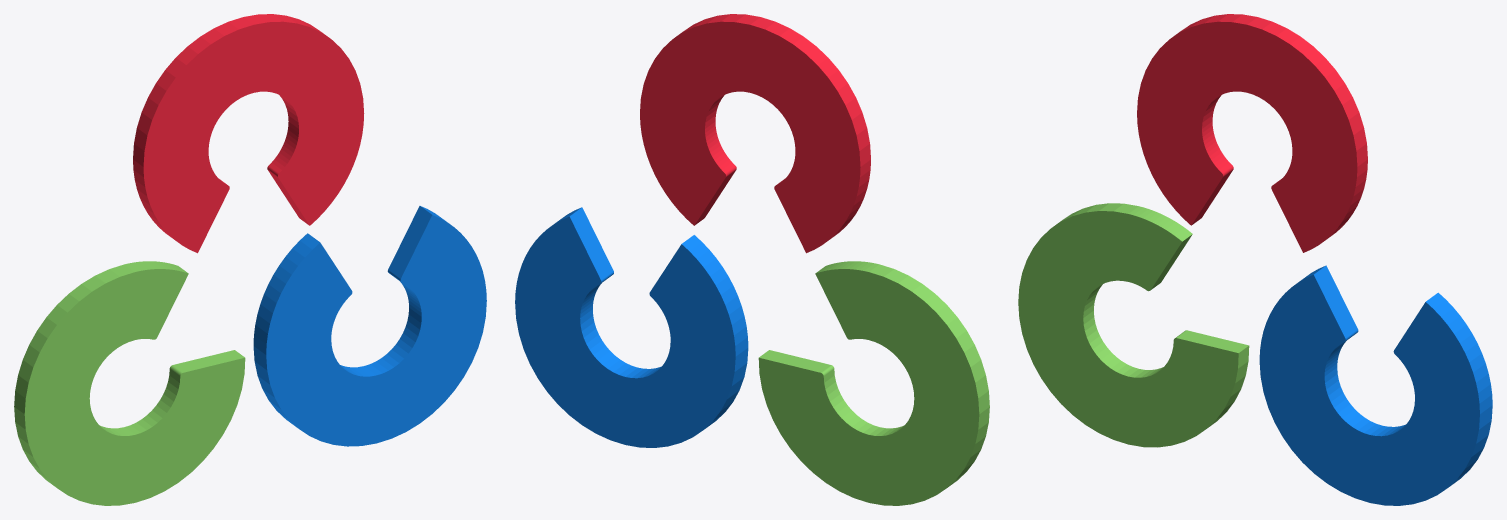
The model's file is opencv.glb.
The picture shows the model from 3 angles, left to right: view 1: azimuth 30°, elevation 25°; view 2: azimuth 150°, elevation 25°; view 3: azimuth 330°, elevation 25°; orthographic projection.
Parts seen in each view (by area): view 1: Curve, Curve.001, Curve.002; view 2: Curve, Curve.001, Curve.002; view 3: Curve, Curve.002, Curve.001.
Part boxes in pixels (bbox=[...]): Curve: bbox=[253, 206, 486, 446]; Curve.001: bbox=[14, 261, 245, 505]; Curve.002: bbox=[133, 14, 364, 253]; Curve: bbox=[515, 207, 748, 447]; Curve.001: bbox=[758, 261, 989, 505]; Curve.002: bbox=[640, 14, 870, 253]; Curve: bbox=[1259, 265, 1492, 505]; Curve.002: bbox=[1137, 14, 1367, 252]; Curve.001: bbox=[1018, 203, 1249, 447].
Size of the model in its own units: 1.26 by 1.17 by 0.06.
